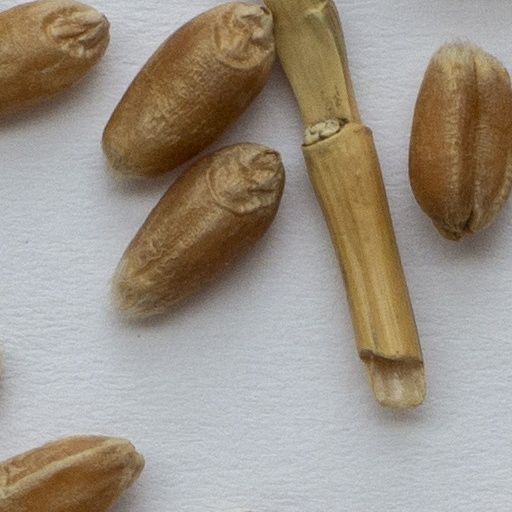Peel-poly: (264, 0, 425, 411)
